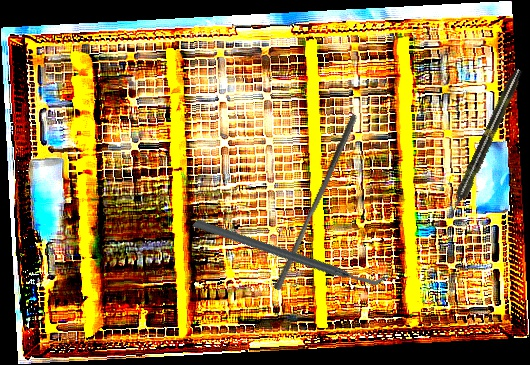Chopper: (191, 155, 389, 348)
Handpiece: (444, 66, 526, 219)
Pusher: (273, 110, 358, 294)
